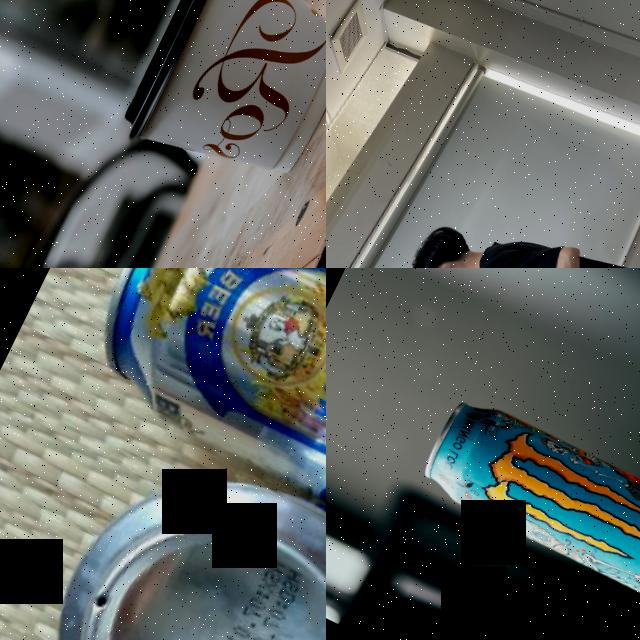can: (67, 268, 326, 599), (410, 385, 640, 640)
cup: (111, 0, 326, 213)
